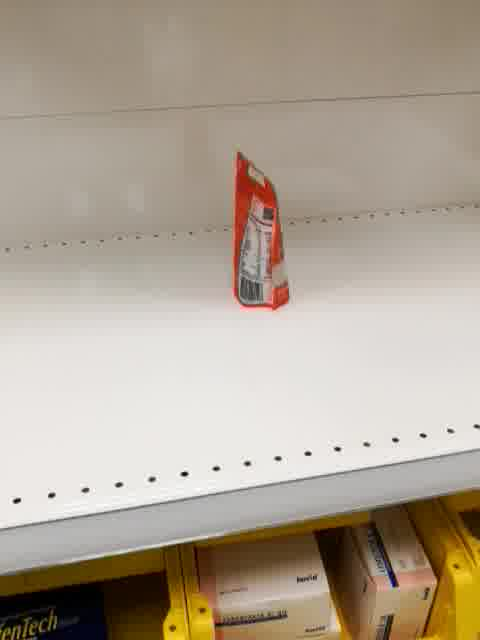whitechia: (230, 148, 292, 311)
